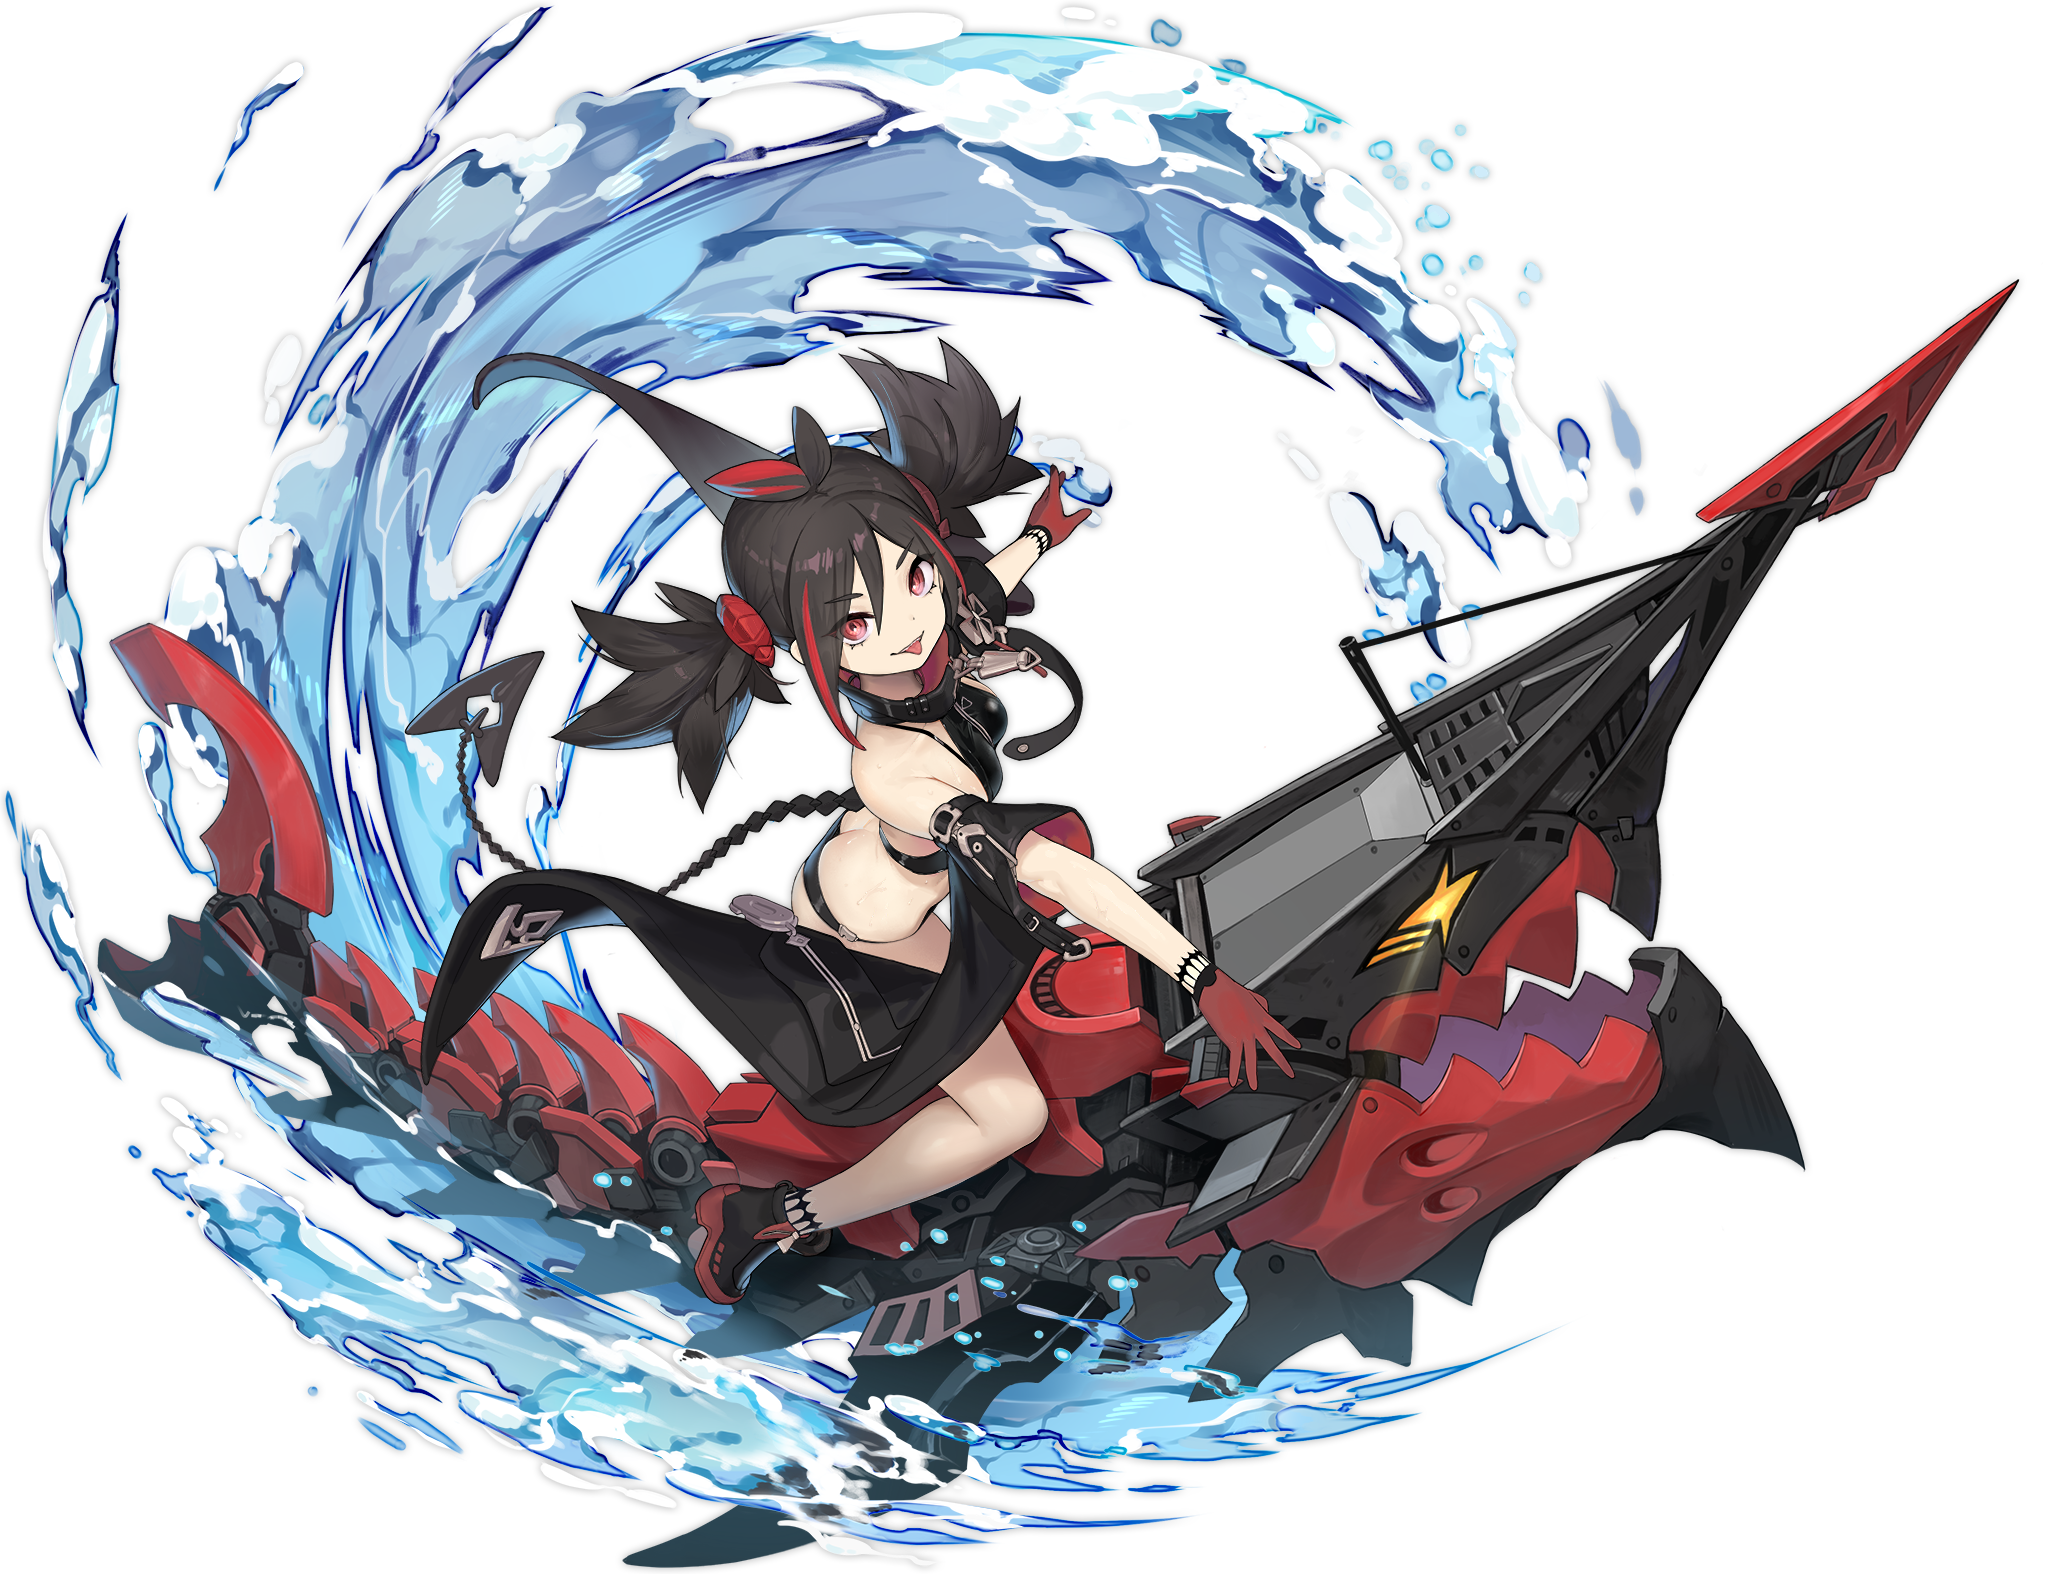person: (353, 376, 1335, 1290)
